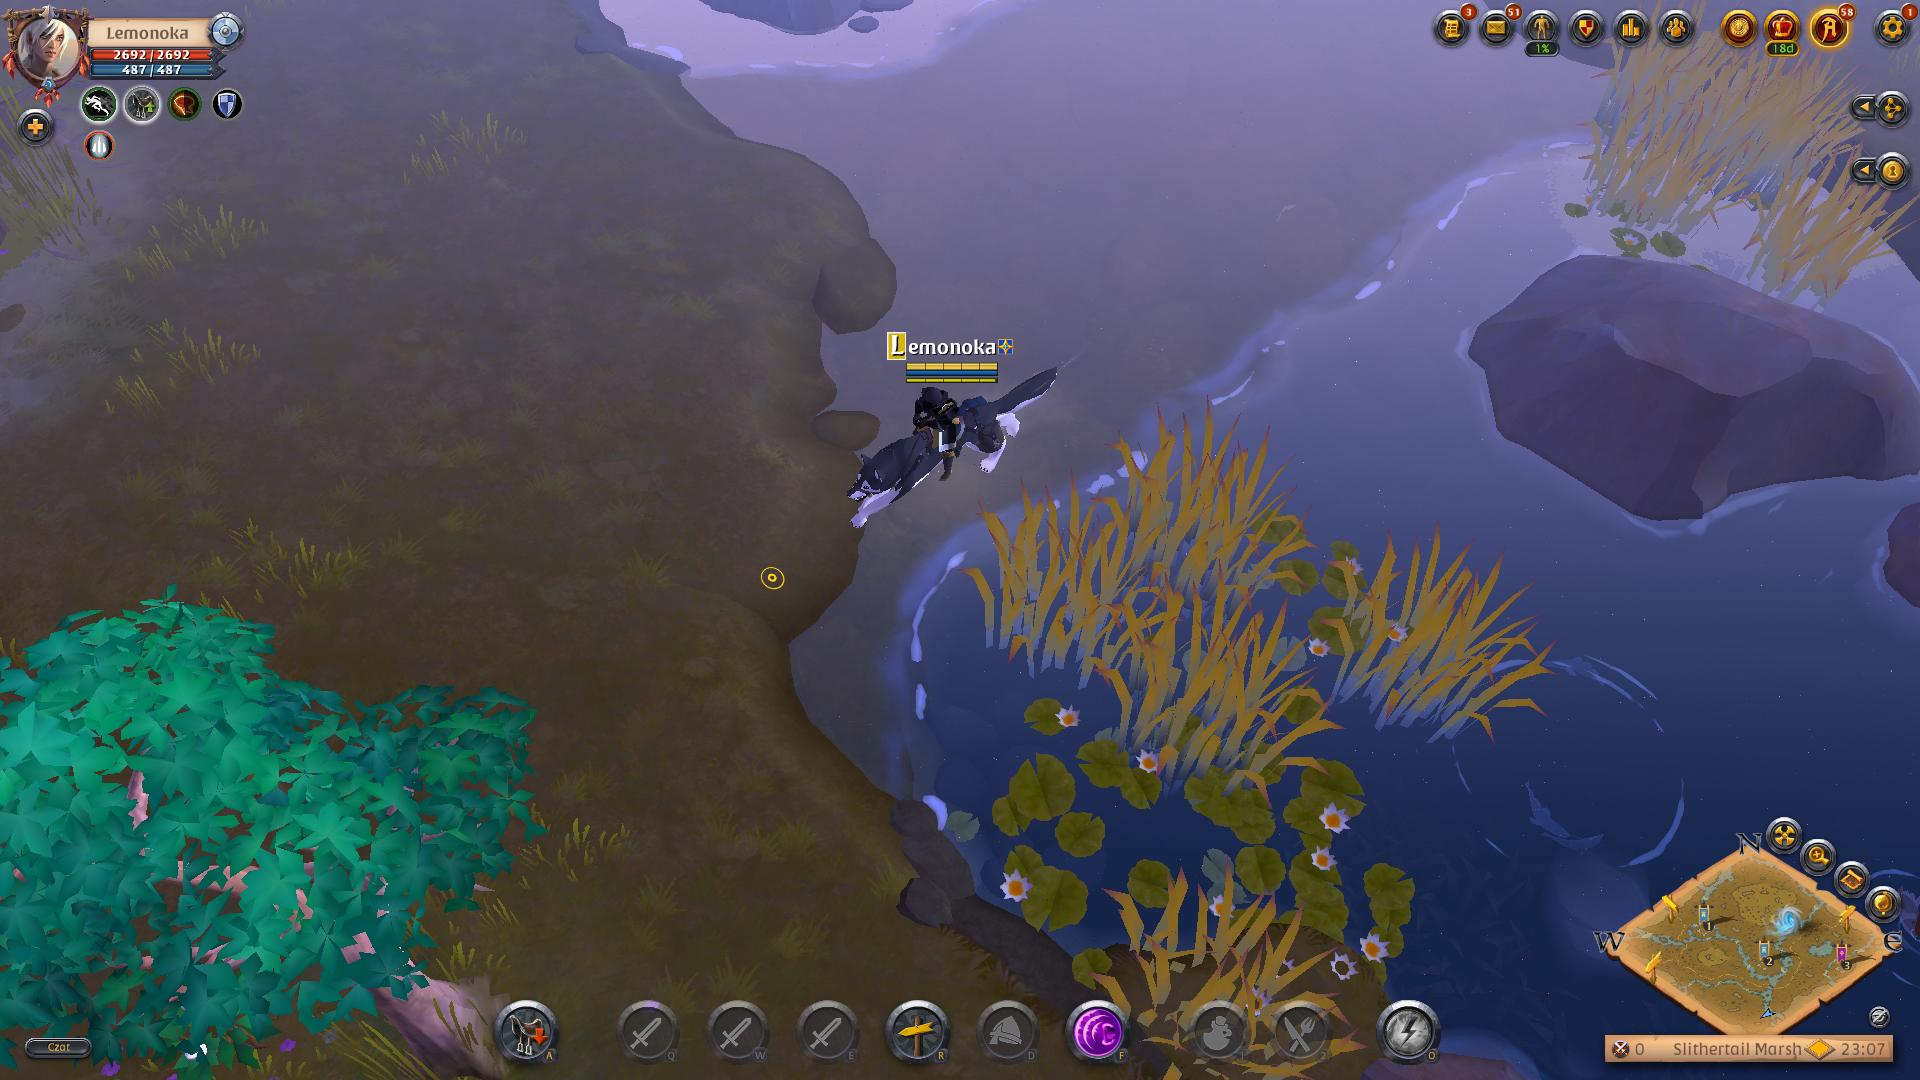fish: (1435, 621, 1705, 891)
